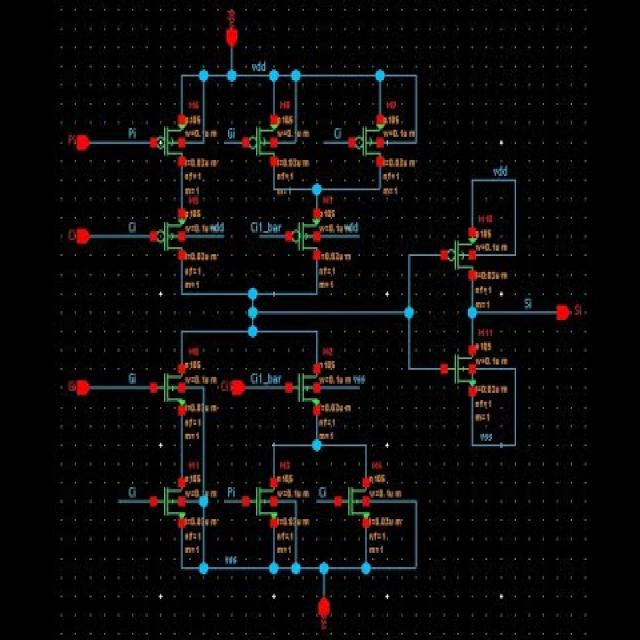nmos: (148, 362, 188, 414), (440, 344, 479, 397), (242, 477, 281, 527), (150, 477, 186, 530), (335, 480, 370, 530), (286, 365, 320, 414)
pmos: (243, 110, 280, 176), (148, 114, 187, 174), (149, 210, 188, 266), (349, 114, 386, 171), (285, 206, 321, 264), (440, 228, 478, 281)
